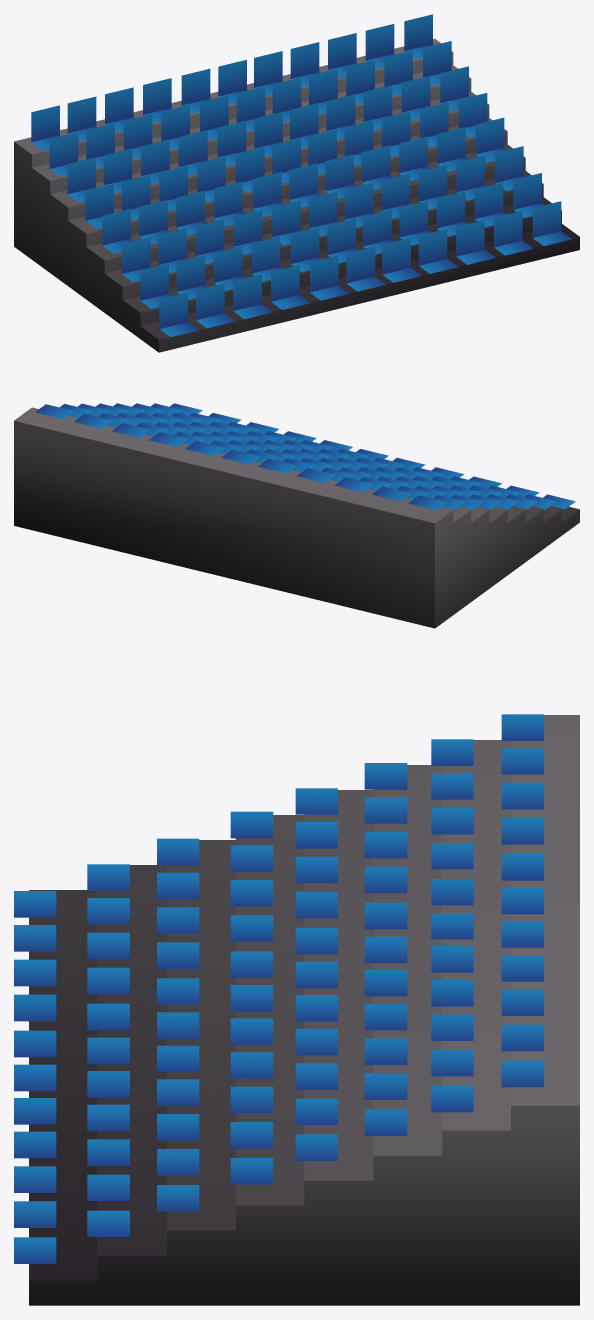
The picture shows the model from 3 angles, top to bottom: view 1: azimuth 30°, elevation 25°; view 2: azimuth 150°, elevation 25°; view 3: azimuth 270°, elevation 25°; orthographic projection. The views are drawn at different scales.
Parts seen in each view (by area): view 1: Chairs; view 2: Chairs; view 3: Chairs.
Boxes of the visible parts, bbox=[...] form: Chairs: bbox=[14, 14, 579, 352]; Chairs: bbox=[14, 403, 579, 628]; Chairs: bbox=[14, 714, 579, 1305].
Size of the model in its own units: 0.8474 by 0.268 by 0.5188.
Materials: 1 (1 with a texture image).
